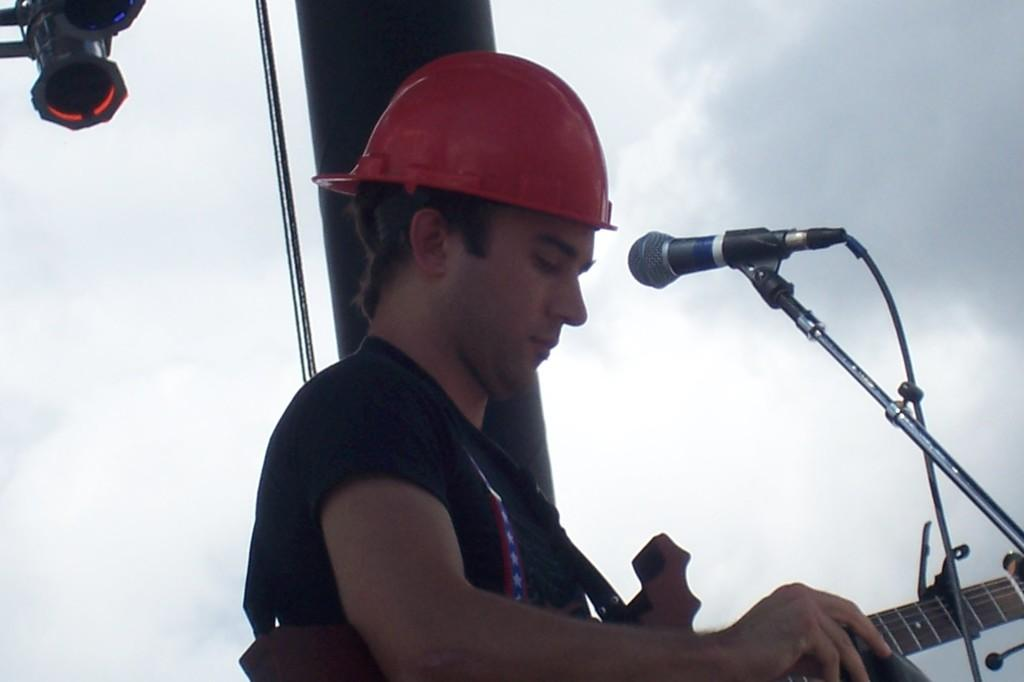helmet: (310, 50, 619, 393)
